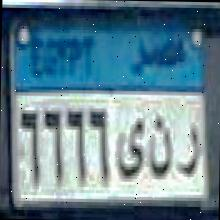6: (86, 103, 112, 187), (64, 102, 88, 190), (17, 104, 41, 188), (41, 107, 64, 188)
noon: (146, 112, 172, 184)
raa: (174, 117, 202, 190)
yaa: (115, 112, 146, 191)
